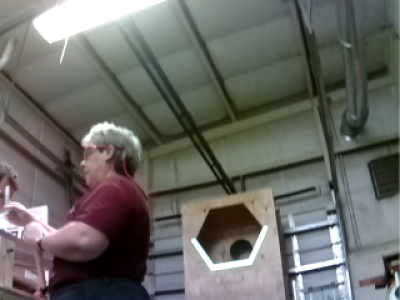target: (189, 224, 268, 272)
